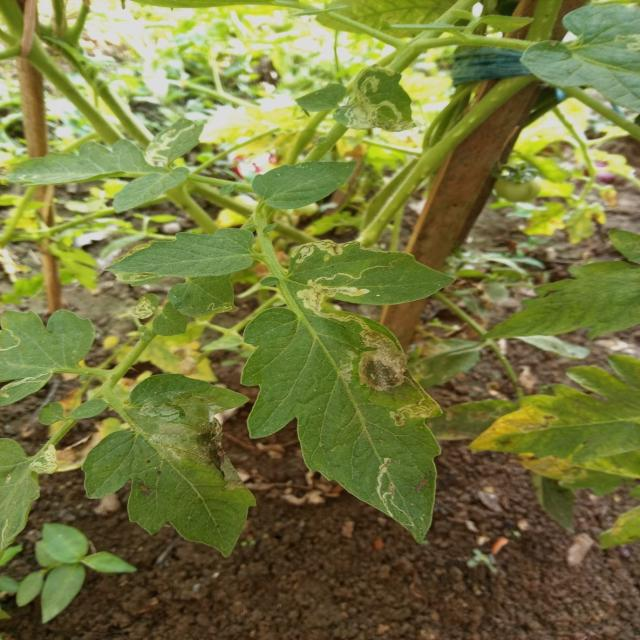Tuta absoluta: (293, 252, 429, 403), (367, 456, 412, 530), (388, 387, 443, 438), (293, 238, 343, 262)
